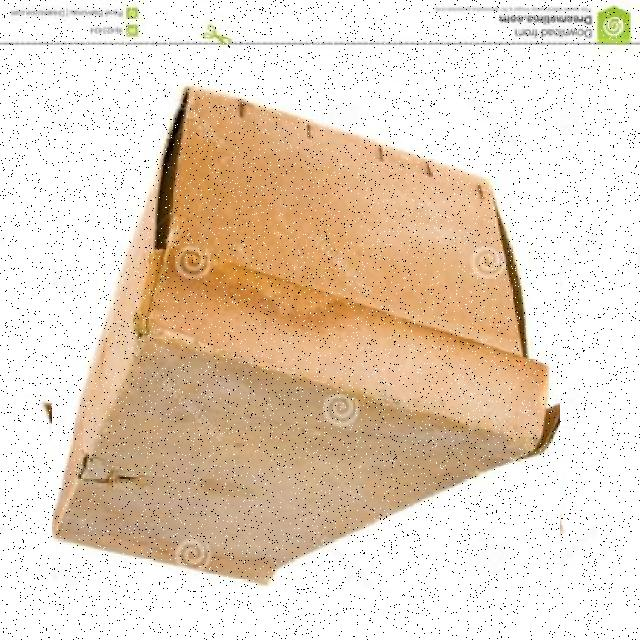defect: (52, 82, 560, 589)
